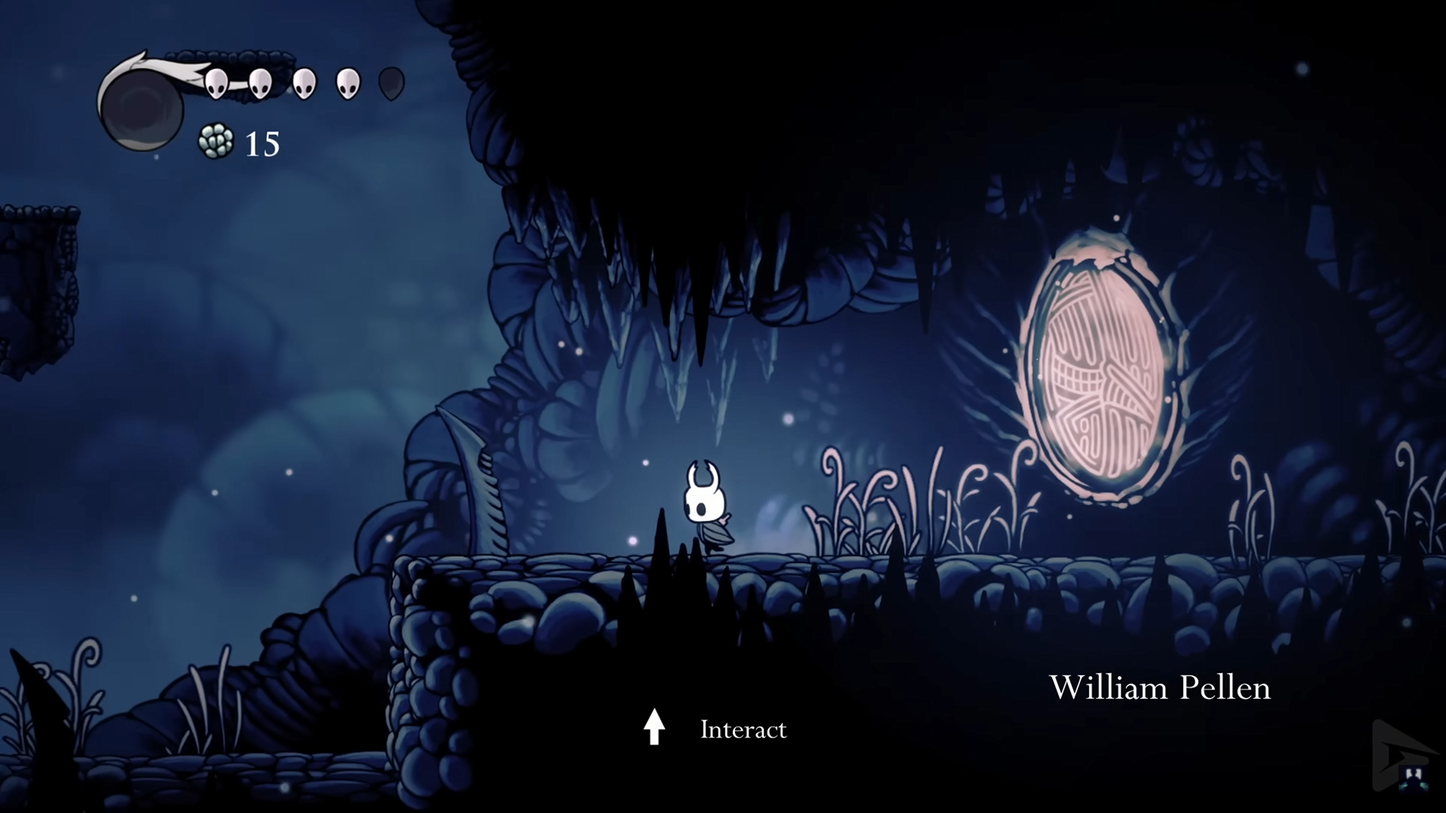HK: (679, 455, 735, 556)
